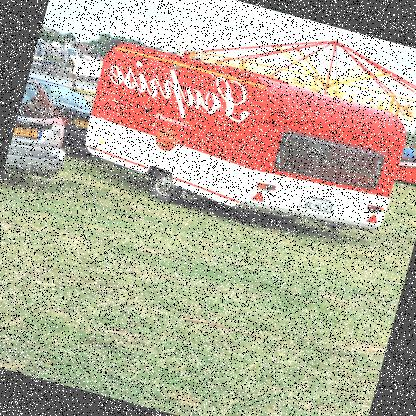Car: (3, 80, 82, 184), (15, 74, 100, 148)
